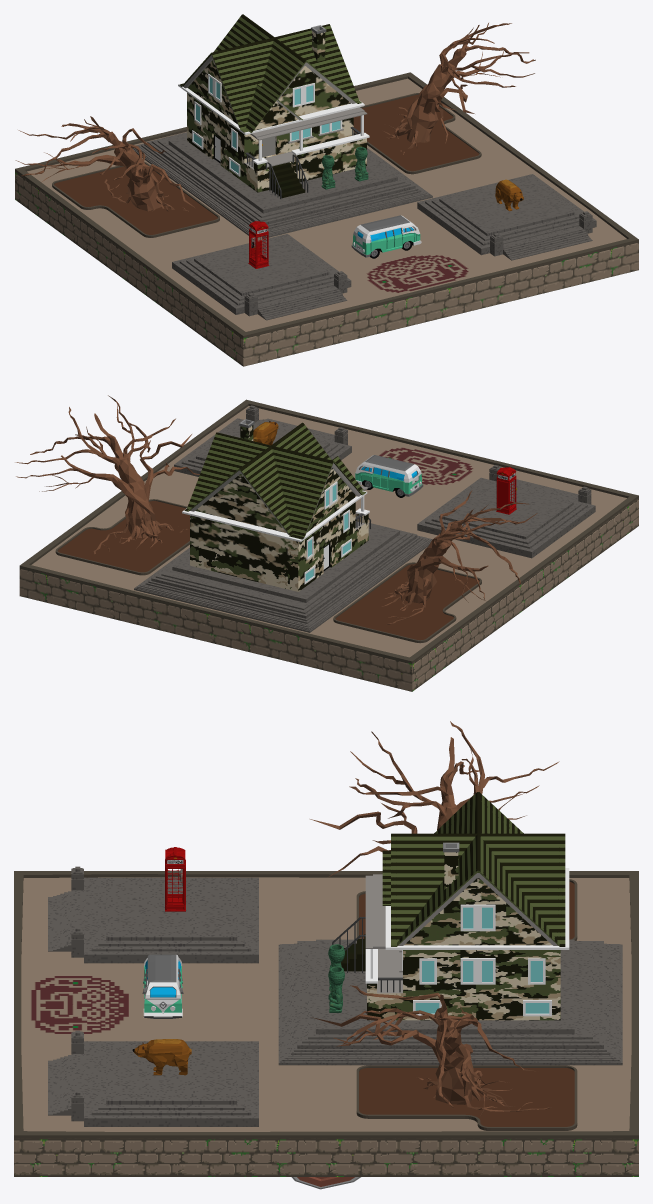
3 views of the same model, one above another, from view 1: azimuth 30°, elevation 25°; view 2: azimuth 150°, elevation 25°; view 3: azimuth 270°, elevation 25° (orthographic). The views are drawn at different scales.
Visible parts, largest first — view 1: Cube.011, Cube.002, VEHICLES_VAN, OBJRANDOM_PHONEBOOTH, ANIMAL_OSO; view 2: Cube.011, Cube.002, VEHICLES_VAN, OBJRANDOM_PHONEBOOTH, ANIMAL_OSO; view 3: Cube.011, Cube.002, VEHICLES_VAN, ANIMAL_OSO, OBJRANDOM_PHONEBOOTH.
Boxes of the visible parts, x1,y1,x2,y2 form: Cube.011: [15, 23, 638, 366]; Cube.002: [178, 14, 369, 199]; VEHICLES_VAN: [351, 215, 421, 258]; OBJRANDOM_PHONEBOOTH: [248, 221, 269, 268]; ANIMAL_OSO: [495, 179, 523, 211]; Cube.011: [15, 395, 638, 691]; Cube.002: [182, 419, 370, 591]; VEHICLES_VAN: [355, 455, 423, 497]; OBJRANDOM_PHONEBOOTH: [496, 467, 516, 514]; ANIMAL_OSO: [253, 421, 278, 445]; Cube.011: [14, 721, 638, 1176]; Cube.002: [332, 792, 569, 1020]; VEHICLES_VAN: [142, 954, 183, 1018]; ANIMAL_OSO: [132, 1039, 191, 1075]; OBJRANDOM_PHONEBOOTH: [165, 847, 185, 911].
Size of the model in its own units: 5099 by 2379 by 4000.
Materials: 46 (7 with a texture image).
